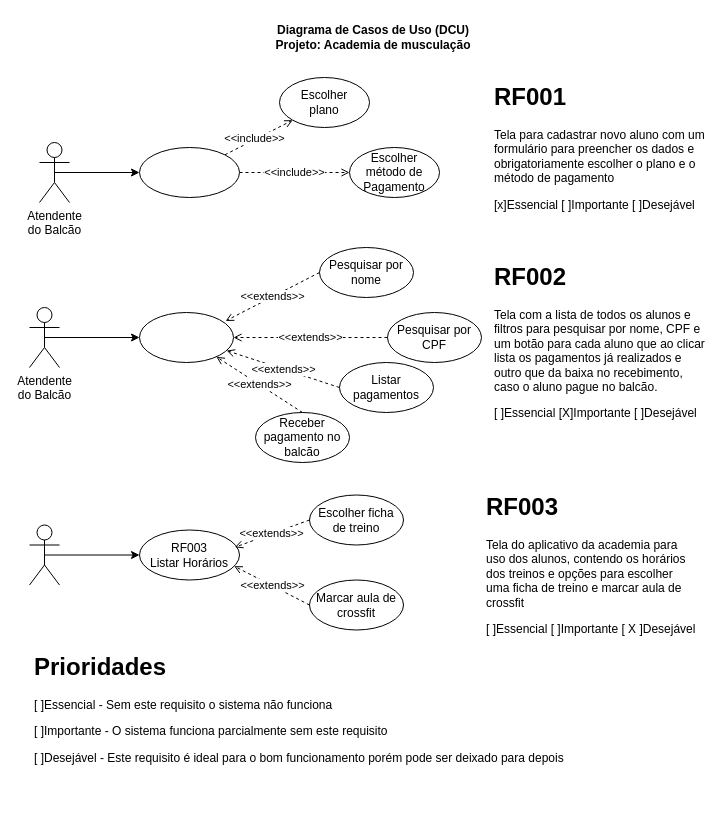
The diagram is 727 pixels wide and 814 high, and some of its shapes have lost their labels. Here are the shapes that lost their labels. From the top down, the centre of each, then its label:
At pixel 189 172: "RF001 Cadastrar novo aluno".
At pixel 186 337: "RF002 Listar Alunos".
At pixel 44 554: "Aluno".
